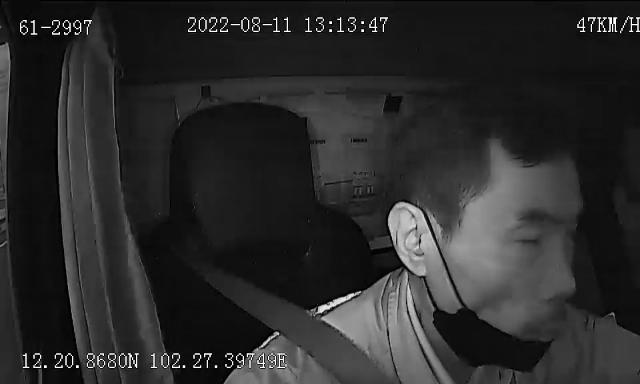Seatbelt: (205, 264, 398, 384)
